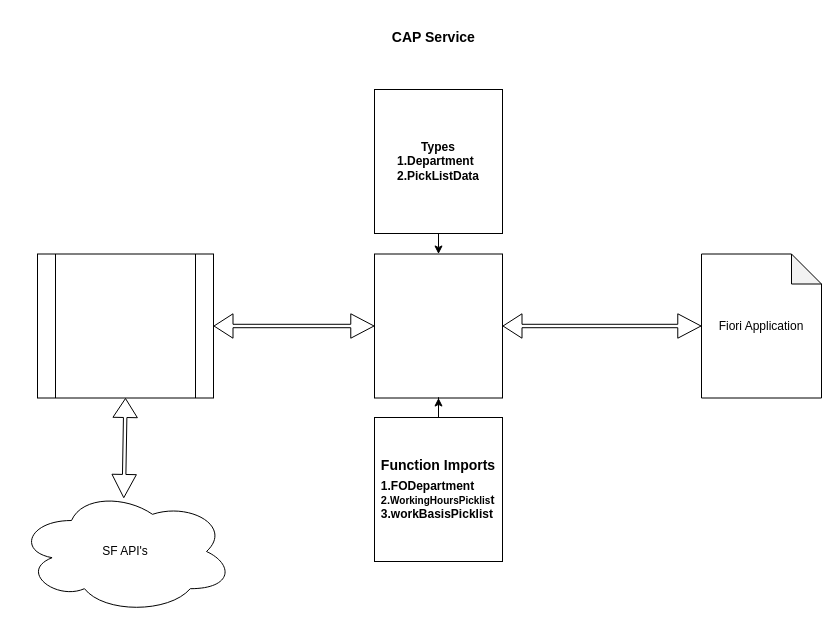
The diagram is 839 pixels wide and 631 high, and some of its shapes have lost their labels. The shapes that lost their labels are listed below. From the top down, each one's box as (x1, y1, x2, y2) in pixels, then its label:
(36, 253, 214, 398): Catalog.js Processing the OData Calls
(374, 253, 502, 398): Entities 1.Positions 2.User 3.JobRequisition 4.Picklist
